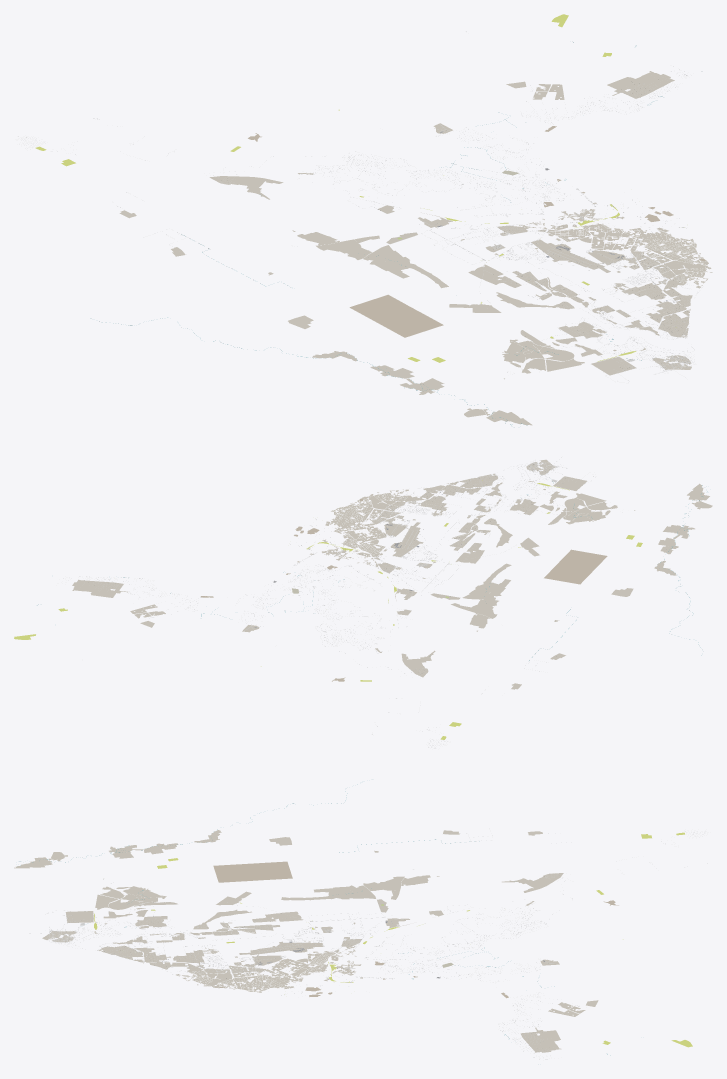
The model's file is TILE_03_00.glb.
3 renders of one model, top to bottom at view 1: azimuth 30°, elevation 25°; view 2: azimuth 150°, elevation 25°; view 3: azimuth 270°, elevation 25°, orthographic. The views are drawn at different scales.
Parts seen in each view (by area): view 1: WEB_landuse_r6, WEB_boundary_p, WEB_aeroway_ae, WEB_name_______5_2; view 2: WEB_landuse_r6, WEB_boundary_p, WEB_aeroway_ae, WEB_name_______5_2; view 3: WEB_landuse_r6, WEB_boundary_p, WEB_aeroway_ae, WEB_name_______5_2.
Part boxes in pixels (x1=…): WEB_landuse_r6: x1=119, y1=71, x2=712, y2=425; WEB_boundary_p: x1=248, y1=126, x2=705, y2=337; WEB_aeroway_ae: x1=418, y1=123, x2=626, y2=272; WEB_name_______5_2: x1=288, y1=81, x2=704, y2=328; WEB_landuse_r6: x1=72, y1=459, x2=712, y2=689; WEB_boundary_p: x1=200, y1=499, x2=607, y2=681; WEB_aeroway_ae: x1=242, y1=522, x2=423, y2=632; WEB_name_______5_2: x1=140, y1=480, x2=633, y2=627; WEB_landuse_r6: x1=14, y1=830, x2=585, y2=1052; WEB_boundary_p: x1=213, y1=861, x2=618, y2=998; WEB_aeroway_ae: x1=239, y1=918, x2=559, y2=965; WEB_name_______5_2: x1=120, y1=837, x2=598, y2=1006.
Size of the model in its own units: 614 by 0.09 by 635.
